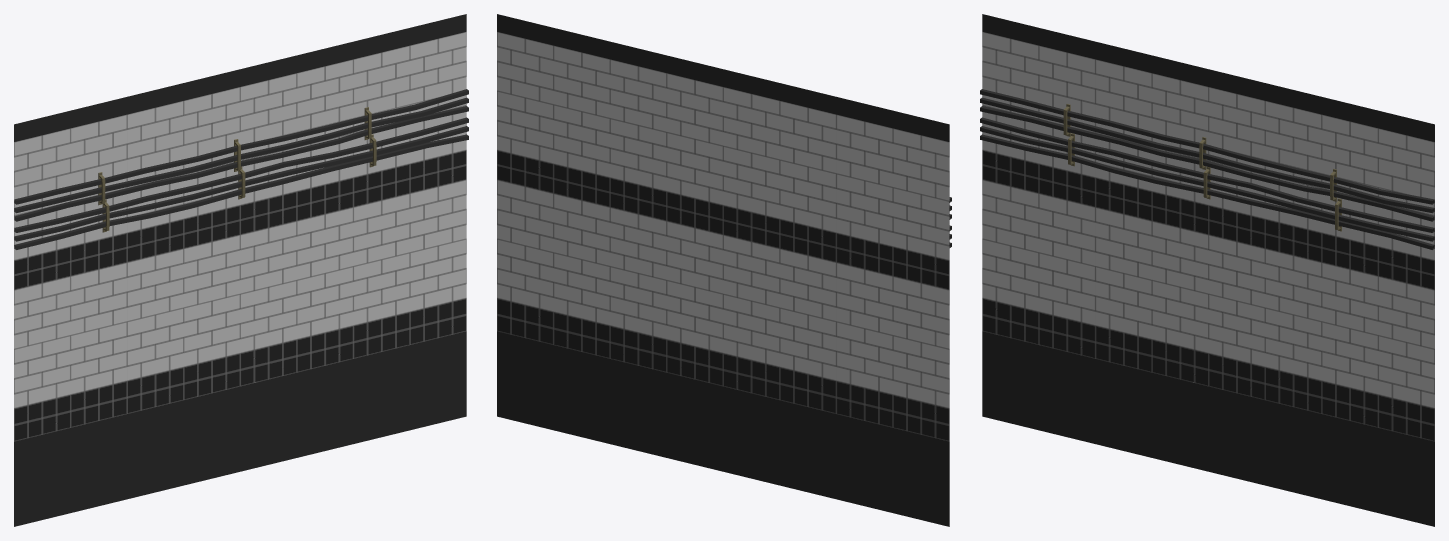
Rendered from SW_ENV_StationTunnel_Wall_A_01b_05m_FF.fbx.
3 views of the same model, side by side, from view 1: azimuth 30°, elevation 25°; view 2: azimuth 150°, elevation 25°; view 3: azimuth 330°, elevation 25° (orthographic).
Visible parts, largest first — view 1: SW_ENV_StationTunnel_Wall_A_01b_05m_FF; view 2: SW_ENV_StationTunnel_Wall_A_01b_05m_FF; view 3: SW_ENV_StationTunnel_Wall_A_01b_05m_FF.
Boxes of the visible parts, x1,y1,x2,y2 form: SW_ENV_StationTunnel_Wall_A_01b_05m_FF: [14, 14, 468, 526]; SW_ENV_StationTunnel_Wall_A_01b_05m_FF: [497, 14, 951, 526]; SW_ENV_StationTunnel_Wall_A_01b_05m_FF: [980, 14, 1434, 526].
Size of the model in its own units: 500 by 425 by 7.06.
